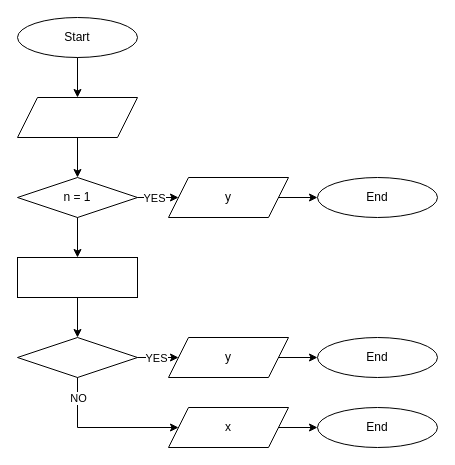
This 455x465 diagram has some shape labels left out. Here are the shapes that lost their labels. From the top down, the centre of each, then its label:
At point (77, 117): "n: int, x: int, y: int".
At point (77, 277): "Check divisors of n from 2 to sqrt(n)".
At point (77, 357): "Exists a divisor?".
